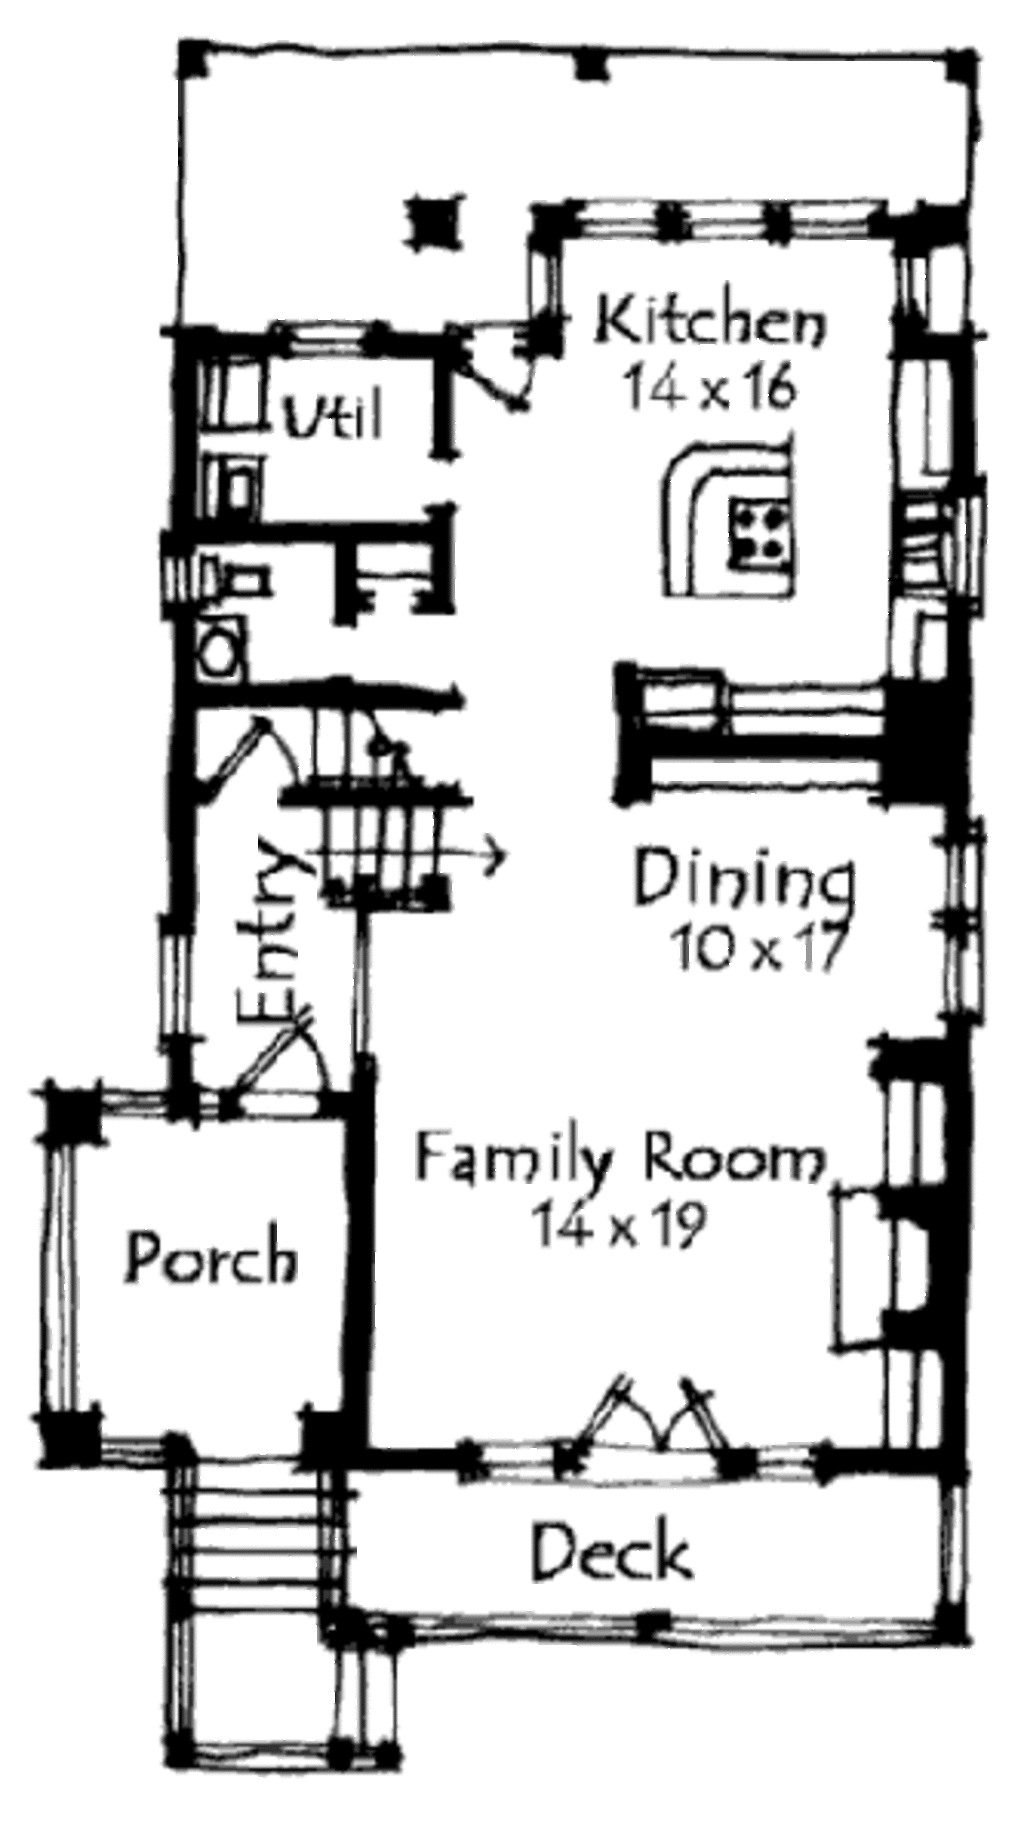door: (570, 1367, 736, 1475), (207, 723, 317, 816), (233, 1027, 342, 1114), (459, 319, 556, 412)
large_sink: (170, 554, 301, 613)
small_sink: (190, 615, 262, 687)
stairs: (127, 1457, 436, 1767), (296, 696, 516, 916)
